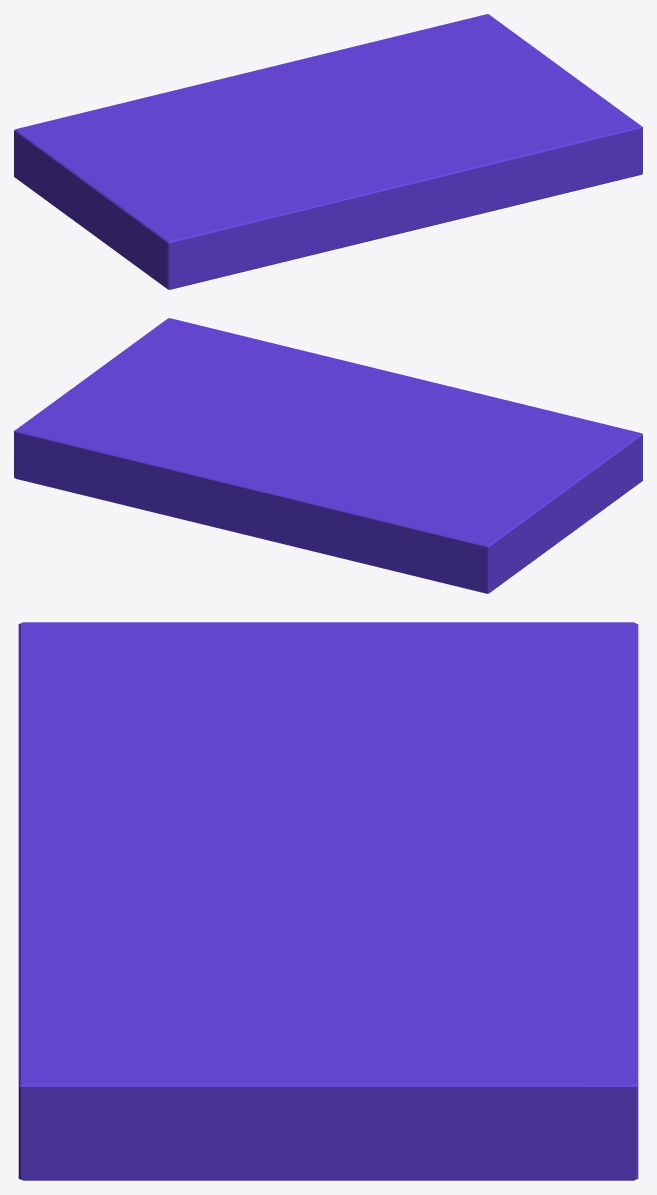
File: deckenLeuchte.fbx
3 renders of one model, top to bottom at view 1: azimuth 30°, elevation 25°; view 2: azimuth 150°, elevation 25°; view 3: azimuth 270°, elevation 25°, orthographic. The views are drawn at different scales.
Visible parts, largest first — view 1: deckenLeuchte; view 2: deckenLeuchte; view 3: deckenLeuchte.
Part boxes in pixels (x1=…): deckenLeuchte: x1=14, y1=14, x2=642, y2=289; deckenLeuchte: x1=14, y1=318, x2=642, y2=593; deckenLeuchte: x1=18, y1=622, x2=638, y2=1180.
Bounding box in the file's own units: 252 × 24.46 × 142.
